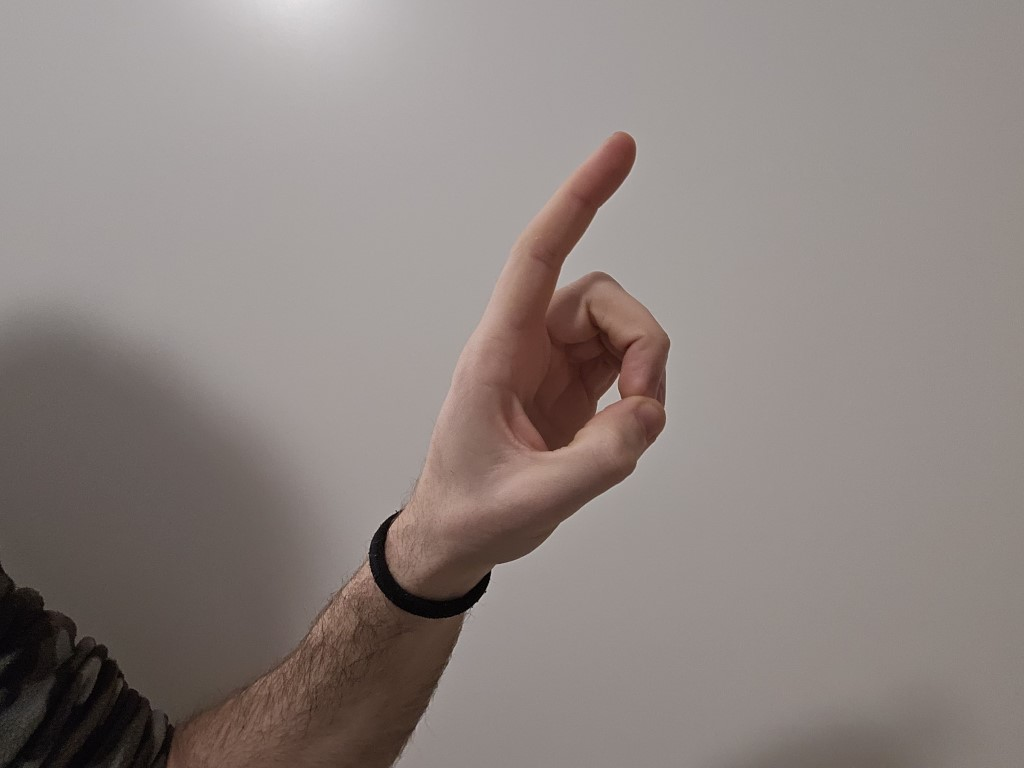d: (399, 110, 707, 576)
